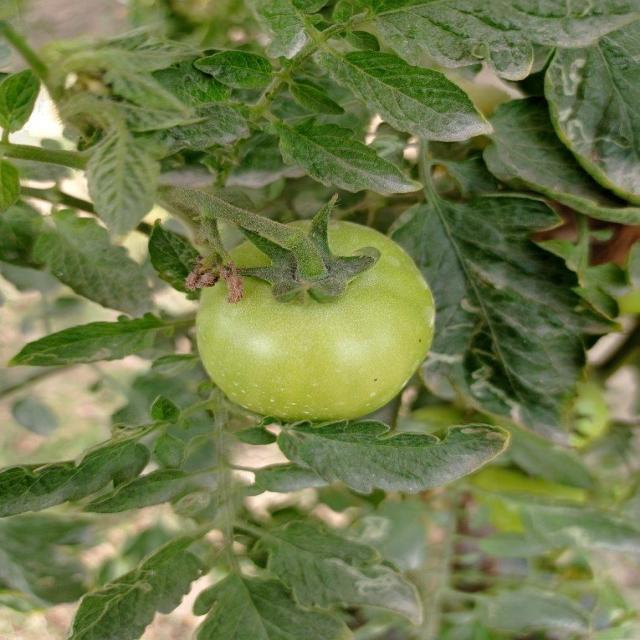Unripe: (196, 217, 433, 420)
